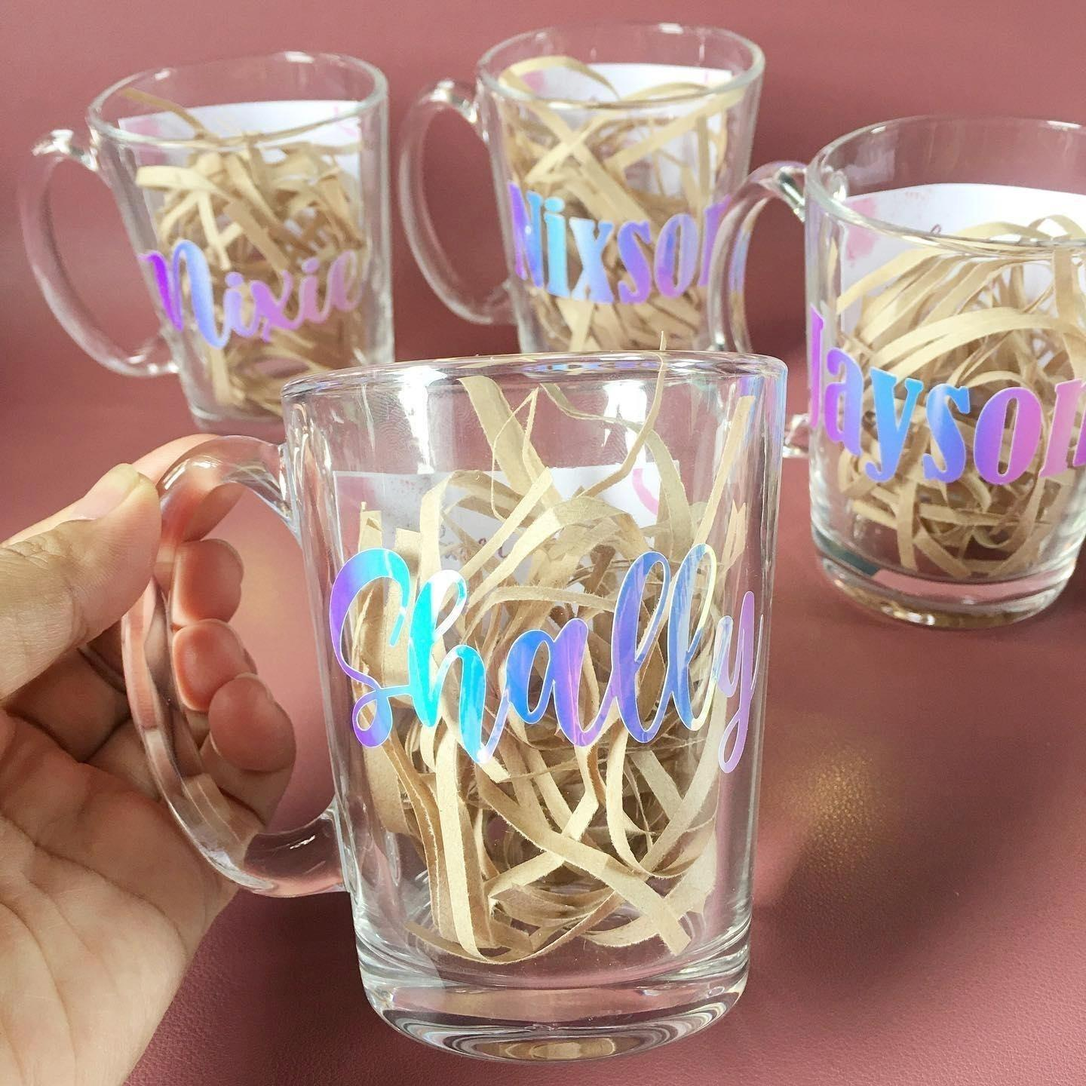glass-mug: (96, 334, 811, 1081), (723, 99, 1086, 640), (17, 43, 406, 423), (394, 7, 773, 397)
